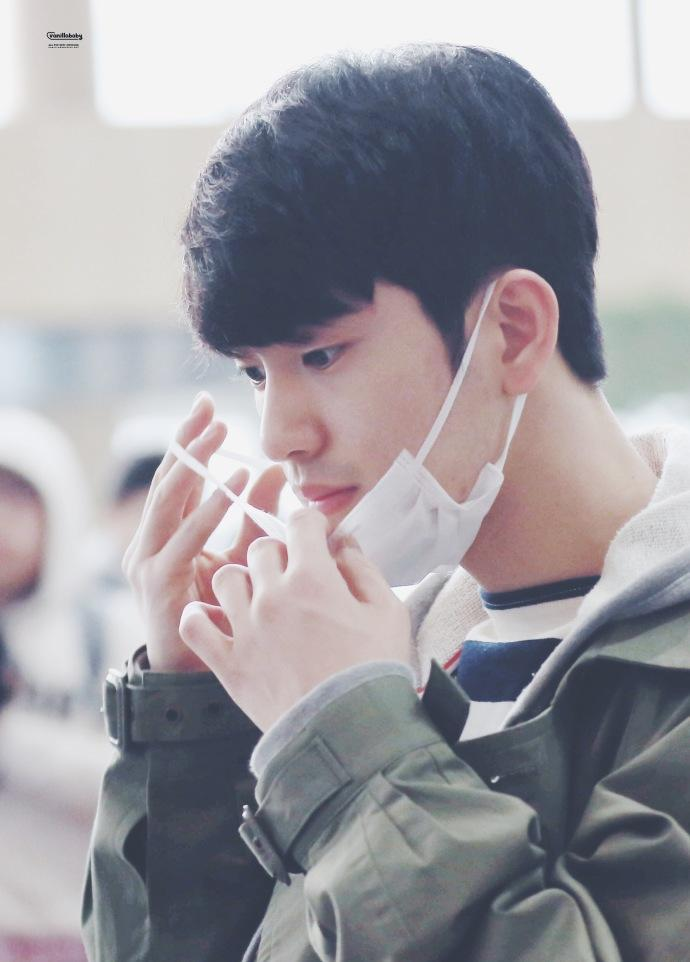WRONG: (237, 282, 531, 576)
